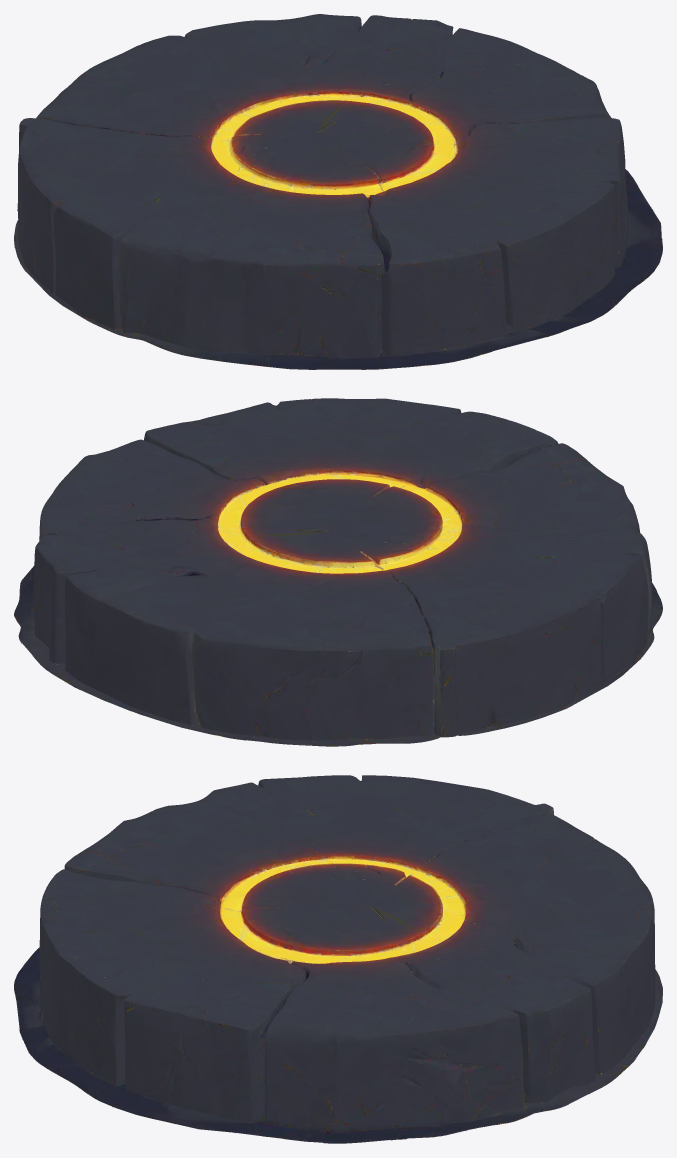
File: volcano-ritual-circle.glb
The picture shows the model from 3 angles, top to bottom: view 1: azimuth 30°, elevation 25°; view 2: azimuth 150°, elevation 25°; view 3: azimuth 270°, elevation 25°; orthographic projection.
Visible parts, largest first — view 1: Mesh_0; view 2: Mesh_0; view 3: Mesh_0.
Part boxes in pixels (<box>): Mesh_0: <box>14,14,662,369</box>; Mesh_0: <box>14,398,662,746</box>; Mesh_0: <box>14,775,662,1143</box>.
Bounding box in the file's own units: 1.9 × 0.3093 × 1.86.
1 material, 1 textured.
